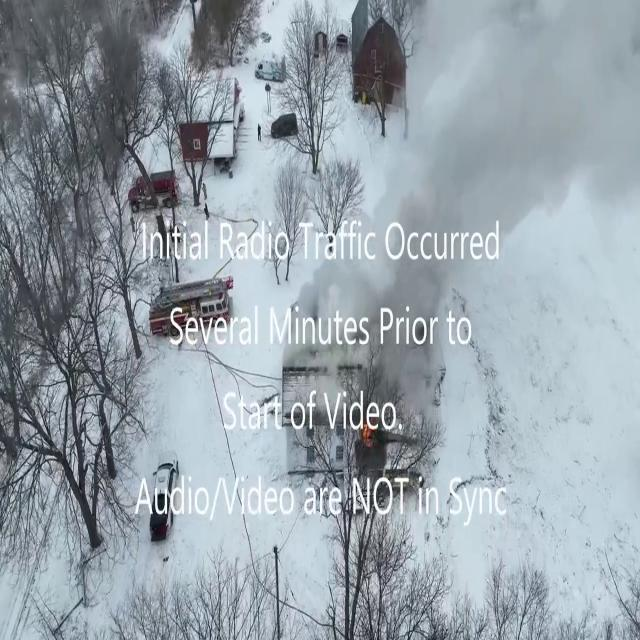Smoke: (303, 0, 639, 425)
